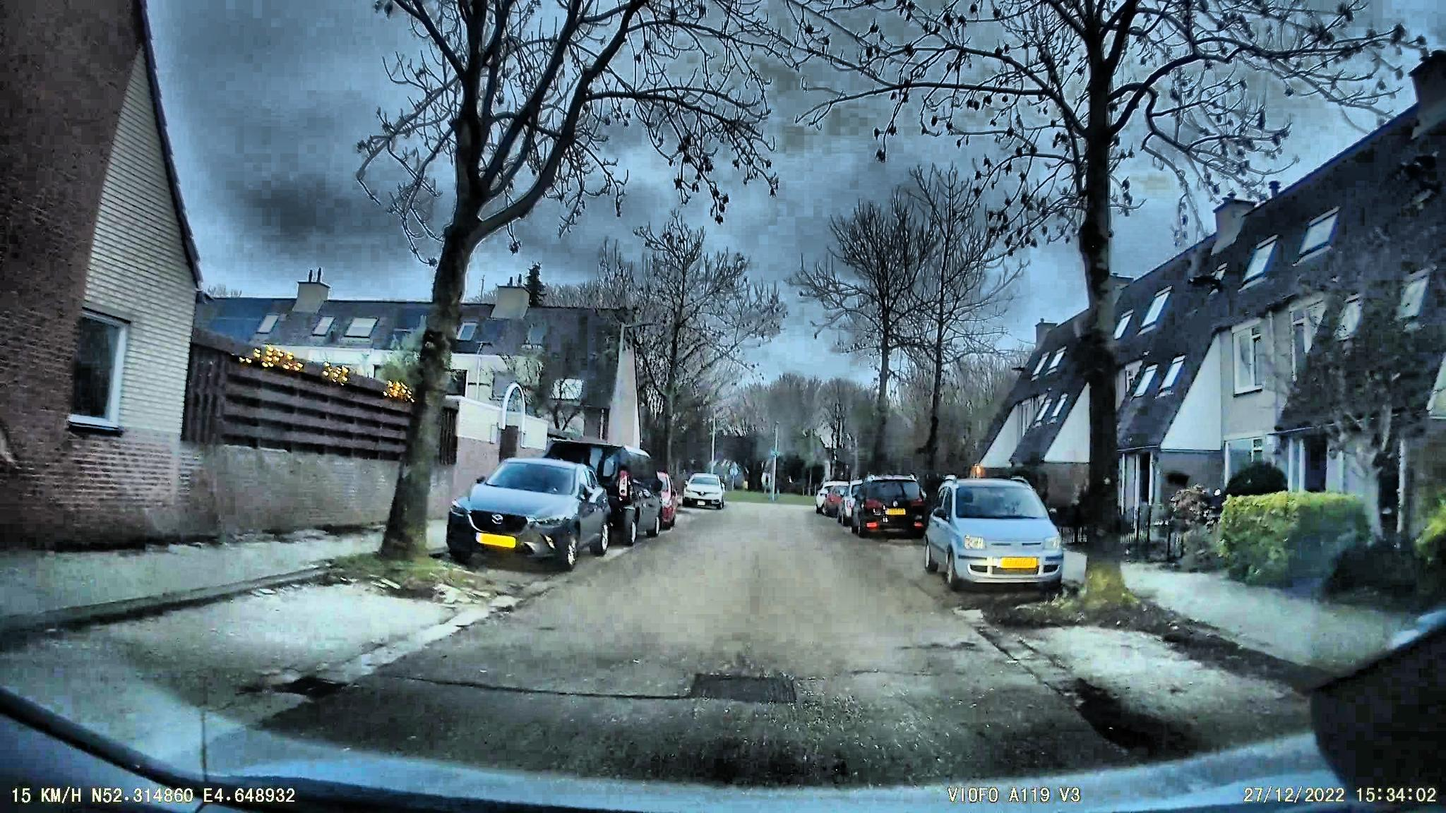Roads: (0, 502, 1341, 813)
